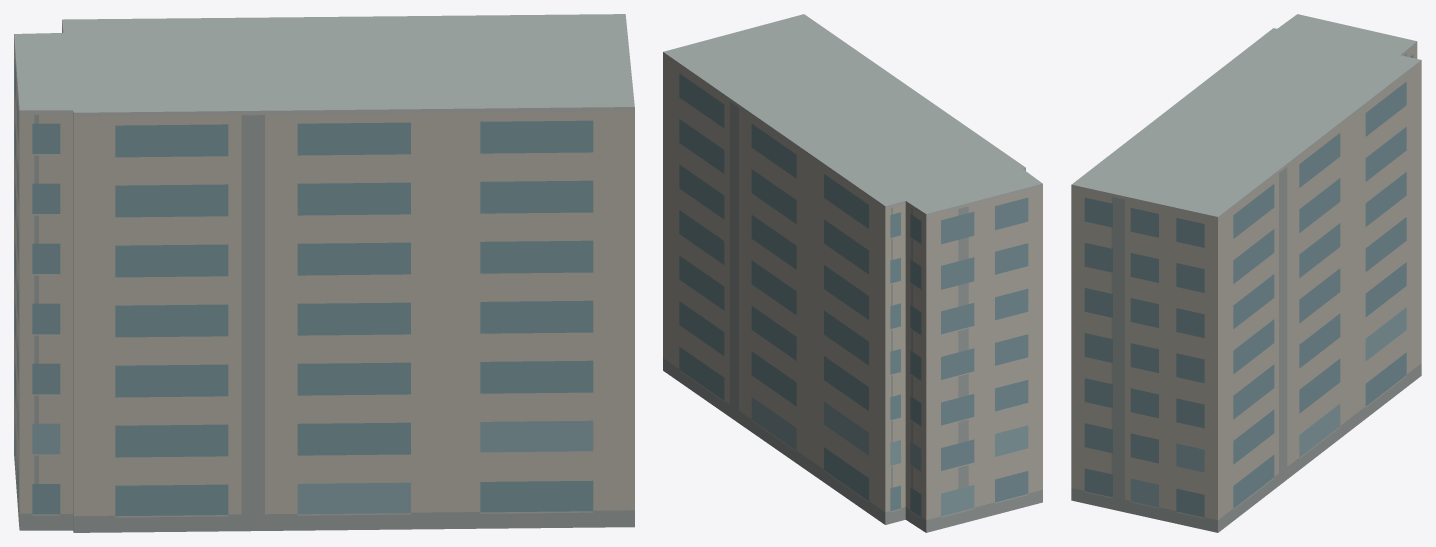
The model's file is survey-upis-32518349.glb.
The picture shows the model from 3 angles, left to right: view 1: azimuth 30°, elevation 25°; view 2: azimuth 150°, elevation 25°; view 3: azimuth 270°, elevation 25°; orthographic projection. The views are drawn at different scales.
Parts seen in each view (by area): view 1: survey-upis-32518349.tmp; view 2: survey-upis-32518349.tmp; view 3: survey-upis-32518349.tmp.
Boxes of the visible parts, x1,y1,x2,y2 form: survey-upis-32518349.tmp: (14, 14, 634, 532); survey-upis-32518349.tmp: (663, 14, 1042, 532); survey-upis-32518349.tmp: (1071, 14, 1421, 532).
Size of the model in its own units: 32.46 by 23.55 by 23.66.
